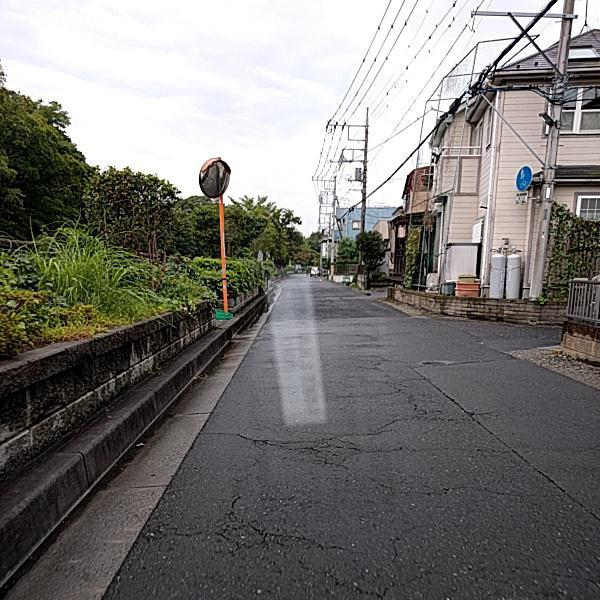D20: (154, 395, 512, 596)
